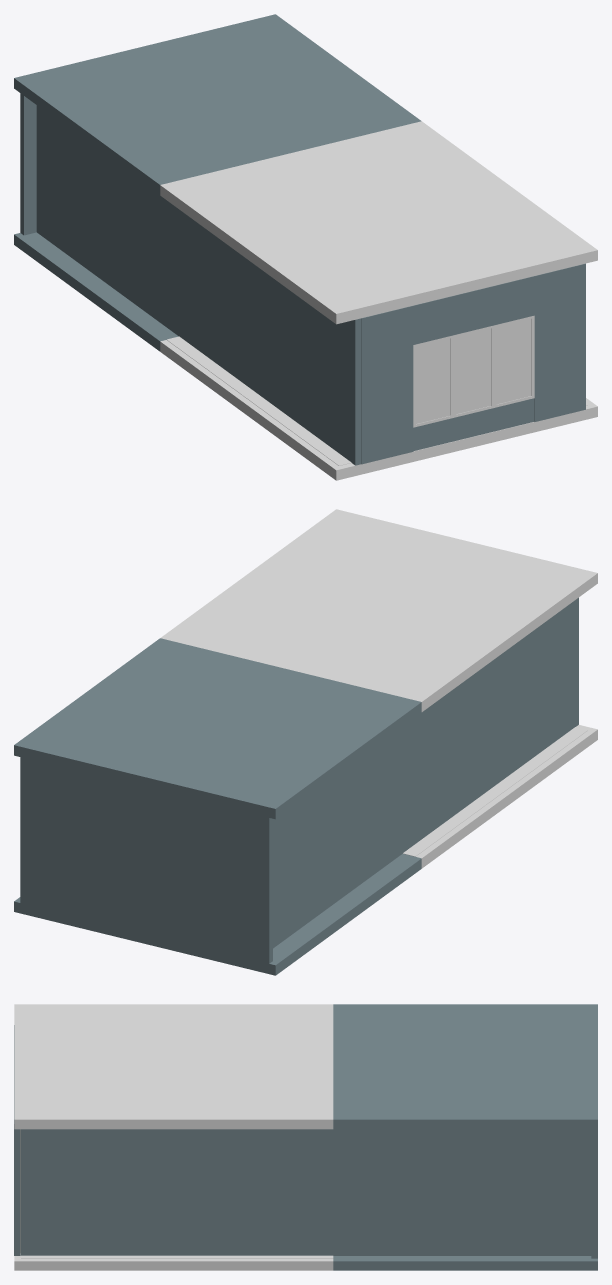
Rendered from LivingRoom.glb.
The picture shows the model from 3 angles, top to bottom: view 1: azimuth 30°, elevation 25°; view 2: azimuth 150°, elevation 25°; view 3: azimuth 270°, elevation 25°; orthographic projection. The views are drawn at different scales.
Parts seen in each view (by area): view 1: Wall_Extension, Main_Ceiling, Wall_right, Wall_front, Window, Base_Floor, Tile_Floor; view 2: Wall_Extension, Main_Ceiling, Wall_right, Base_Floor, Tile_Floor; view 3: Wall_Extension, Main_Ceiling, Wall_left, Base_Floor, Tile_Floor, Wall_front.
Boxes of the visible parts, x1=… form: Wall_Extension: x1=14, y1=14, x2=421, y2=351; Main_Ceiling: x1=160, y1=121, x2=597, y2=324; Wall_right: x1=183, y1=212, x2=361, y2=465; Wall_front: x1=361, y1=263, x2=585, y2=464; Window: x1=413, y1=315, x2=534, y2=427; Base_Floor: x1=160, y1=340, x2=597, y2=480; Tile_Floor: x1=166, y1=336, x2=587, y2=465; Wall_Extension: x1=14, y1=638, x2=421, y2=975; Main_Ceiling: x1=160, y1=509, x2=597, y2=711; Wall_right: x1=406, y1=597, x2=578, y2=850; Base_Floor: x1=416, y1=725, x2=597, y2=868; Tile_Floor: x1=403, y1=727, x2=587, y2=856; Wall_Extension: x1=333, y1=1004, x2=597, y2=1270; Main_Ceiling: x1=14, y1=1004, x2=333, y2=1129; Wall_left: x1=21, y1=1129, x2=333, y2=1255; Base_Floor: x1=14, y1=1253, x2=333, y2=1270; Tile_Floor: x1=21, y1=1255, x2=333, y2=1258; Wall_front: x1=14, y1=1025, x2=20, y2=1255.
Size of the model in its own units: 5.25 by 3.2 by 11.22.
